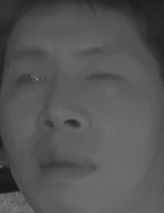eye: (11, 68, 48, 92), (83, 66, 122, 87)
mouth: (35, 145, 95, 184)
